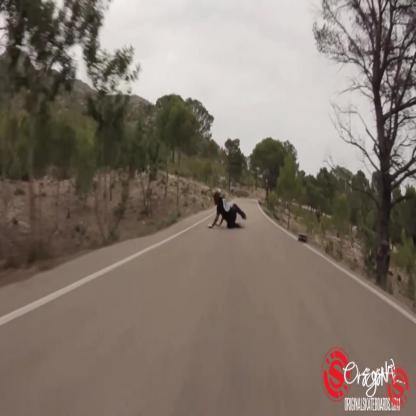Fall_Down: (206, 187, 248, 235)
